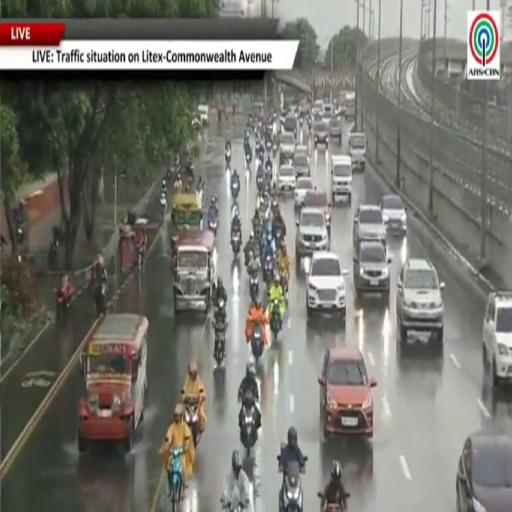car: (319, 347, 377, 438), (456, 431, 511, 511), (396, 259, 444, 347), (483, 292, 511, 386), (307, 251, 347, 316), (354, 242, 391, 300), (296, 207, 329, 263), (353, 205, 386, 251), (304, 188, 332, 231), (381, 195, 407, 235), (331, 155, 352, 204), (349, 133, 366, 170), (294, 178, 313, 207), (277, 165, 296, 191), (313, 121, 329, 149), (280, 132, 296, 158), (293, 153, 310, 177), (328, 116, 342, 145), (198, 104, 209, 126), (283, 115, 296, 133), (312, 100, 323, 117), (296, 144, 309, 157), (322, 112, 333, 124), (323, 104, 333, 116), (313, 112, 322, 122)
jeepney: (78, 314, 148, 453), (173, 231, 216, 313), (171, 194, 203, 254)
motorcycle: (277, 444, 304, 511), (280, 461, 303, 511), (240, 392, 257, 456), (169, 448, 184, 511), (185, 397, 200, 446), (213, 322, 226, 365), (321, 493, 350, 511), (56, 285, 72, 317), (270, 299, 282, 340), (251, 323, 263, 363), (95, 280, 106, 316), (221, 500, 249, 511), (264, 254, 274, 284), (48, 242, 58, 270), (214, 297, 226, 318), (250, 271, 258, 302), (231, 231, 241, 255), (136, 244, 144, 272), (208, 212, 217, 235), (280, 271, 288, 296), (160, 195, 167, 221), (231, 179, 240, 199), (275, 226, 284, 246), (256, 172, 264, 193), (231, 202, 240, 219), (225, 148, 231, 166), (265, 160, 272, 173), (245, 152, 251, 167), (266, 139, 271, 152), (273, 142, 277, 156)
